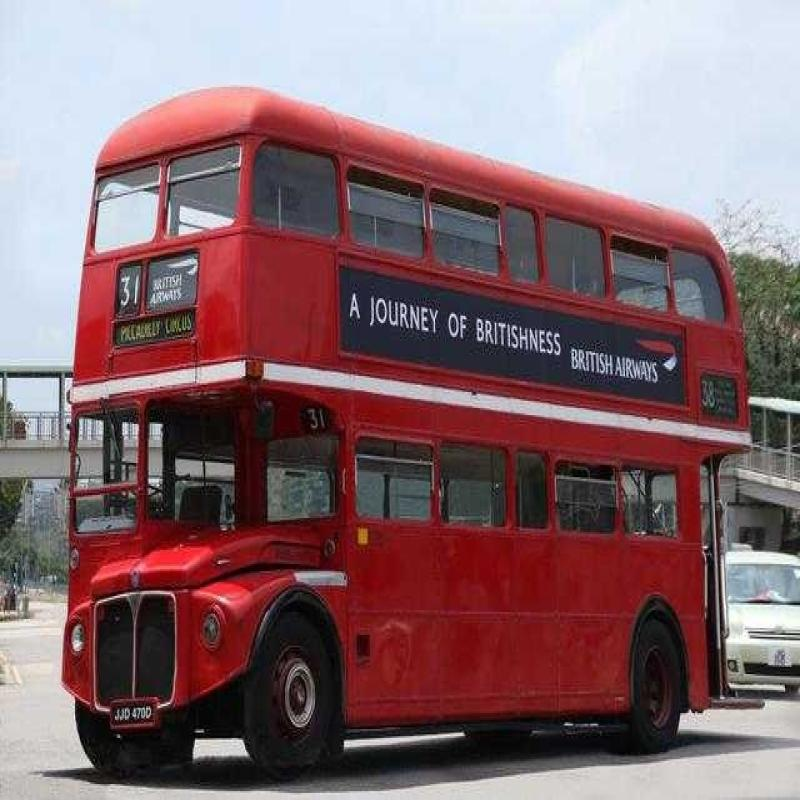bus: (60, 47, 756, 760)
